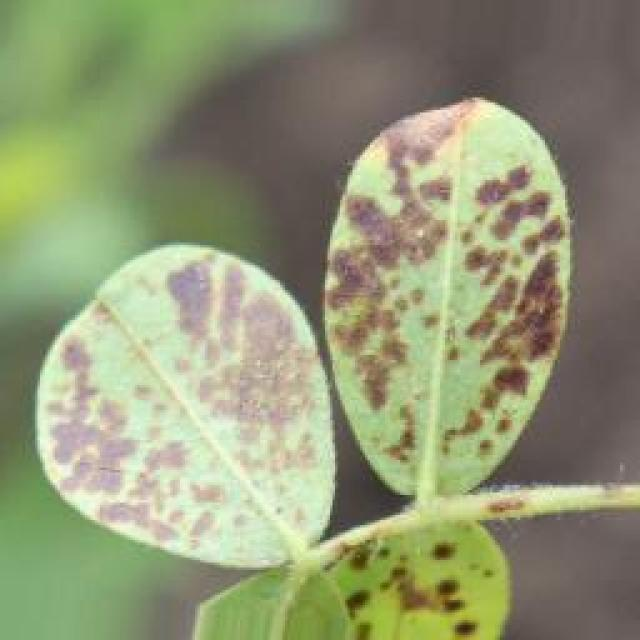Whitefly: (38, 95, 540, 640)
